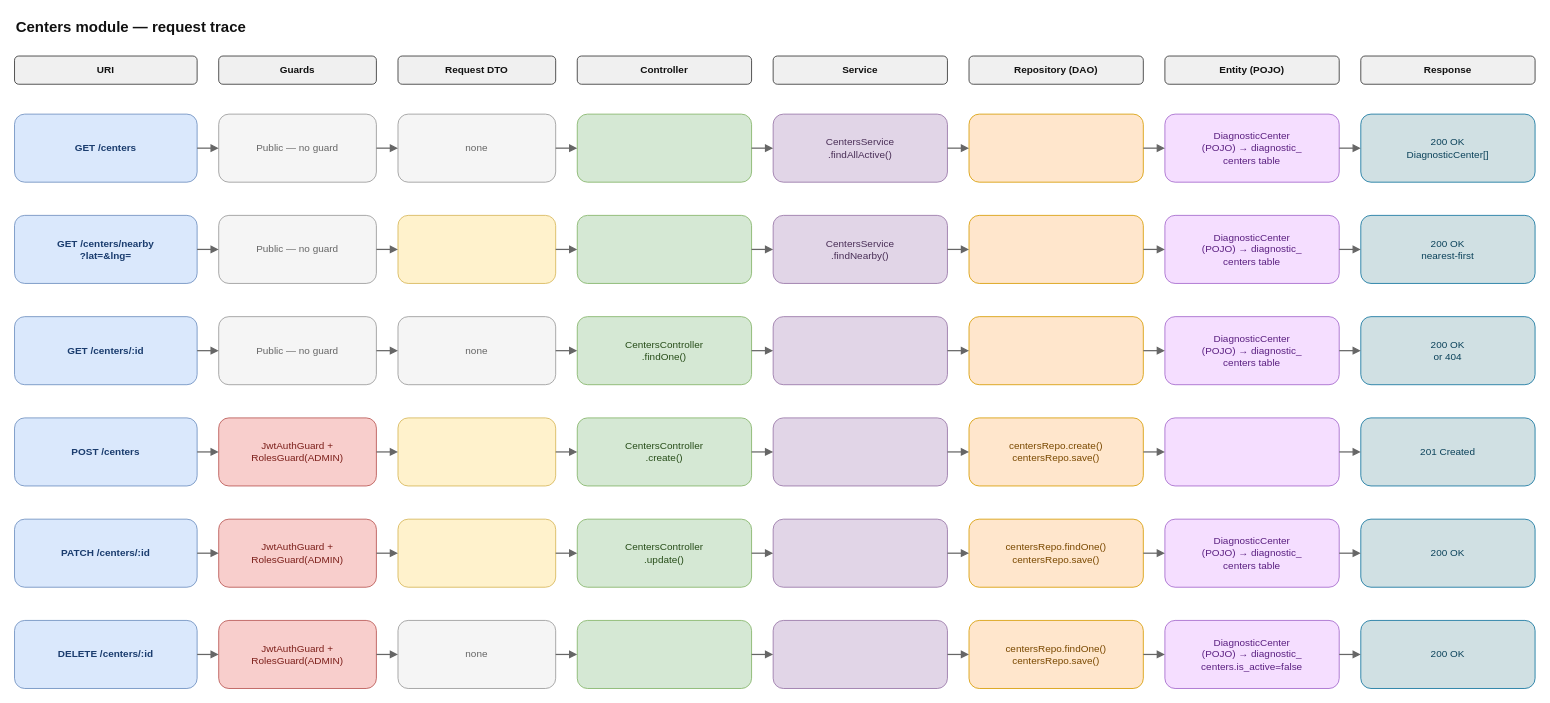
Some shapes in this 1550 by 703 pixel diagram are drawn without their labels. The box of each missing label's shape, as (x1, y1, x2, y2) in pixels:
CentersController .findAll(): (576, 113, 752, 182)
CentersController .findNearby(): (576, 215, 752, 283)
CentersController .remove(): (576, 620, 752, 688)
centersRepo .createQueryBuilder() ST_DWithin/ST_Distance: (968, 215, 1143, 283)
centersRepo.find() {where: isActive}: (968, 113, 1143, 182)
centersRepo.findOne() {where: id}: (968, 316, 1143, 385)
CentersService .create(): (772, 417, 947, 486)
CentersService .findOne(): (772, 316, 947, 385)
CentersService .remove() (soft delete): (772, 620, 947, 688)
CentersService .update(): (772, 518, 947, 587)
CreateCenterDto (lat/lng → GeoPoint): (397, 417, 556, 486)
DiagnosticCenter (POJO) → diagnostic_ centers (INSERT, geography): (1164, 417, 1339, 486)
NearbyQueryDto (lat, lng): (397, 215, 556, 283)
UpdateCenterDto: (397, 518, 556, 587)
